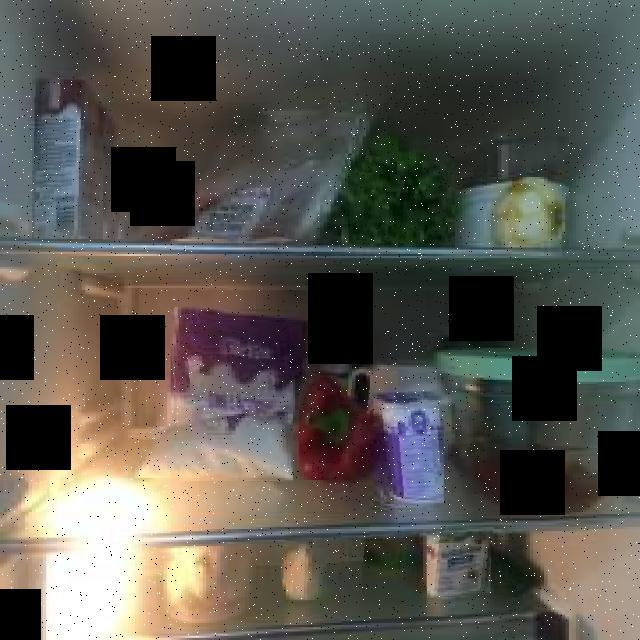bell_pepper: (299, 380, 373, 480)
garlic: (281, 538, 327, 600)
grated_cheese: (169, 310, 293, 481)
guacamole: (362, 533, 420, 593)
heavy_cream: (34, 80, 101, 238), (427, 526, 494, 598), (103, 106, 132, 240)
salad: (348, 137, 448, 243)
yogurt: (374, 390, 444, 504)
